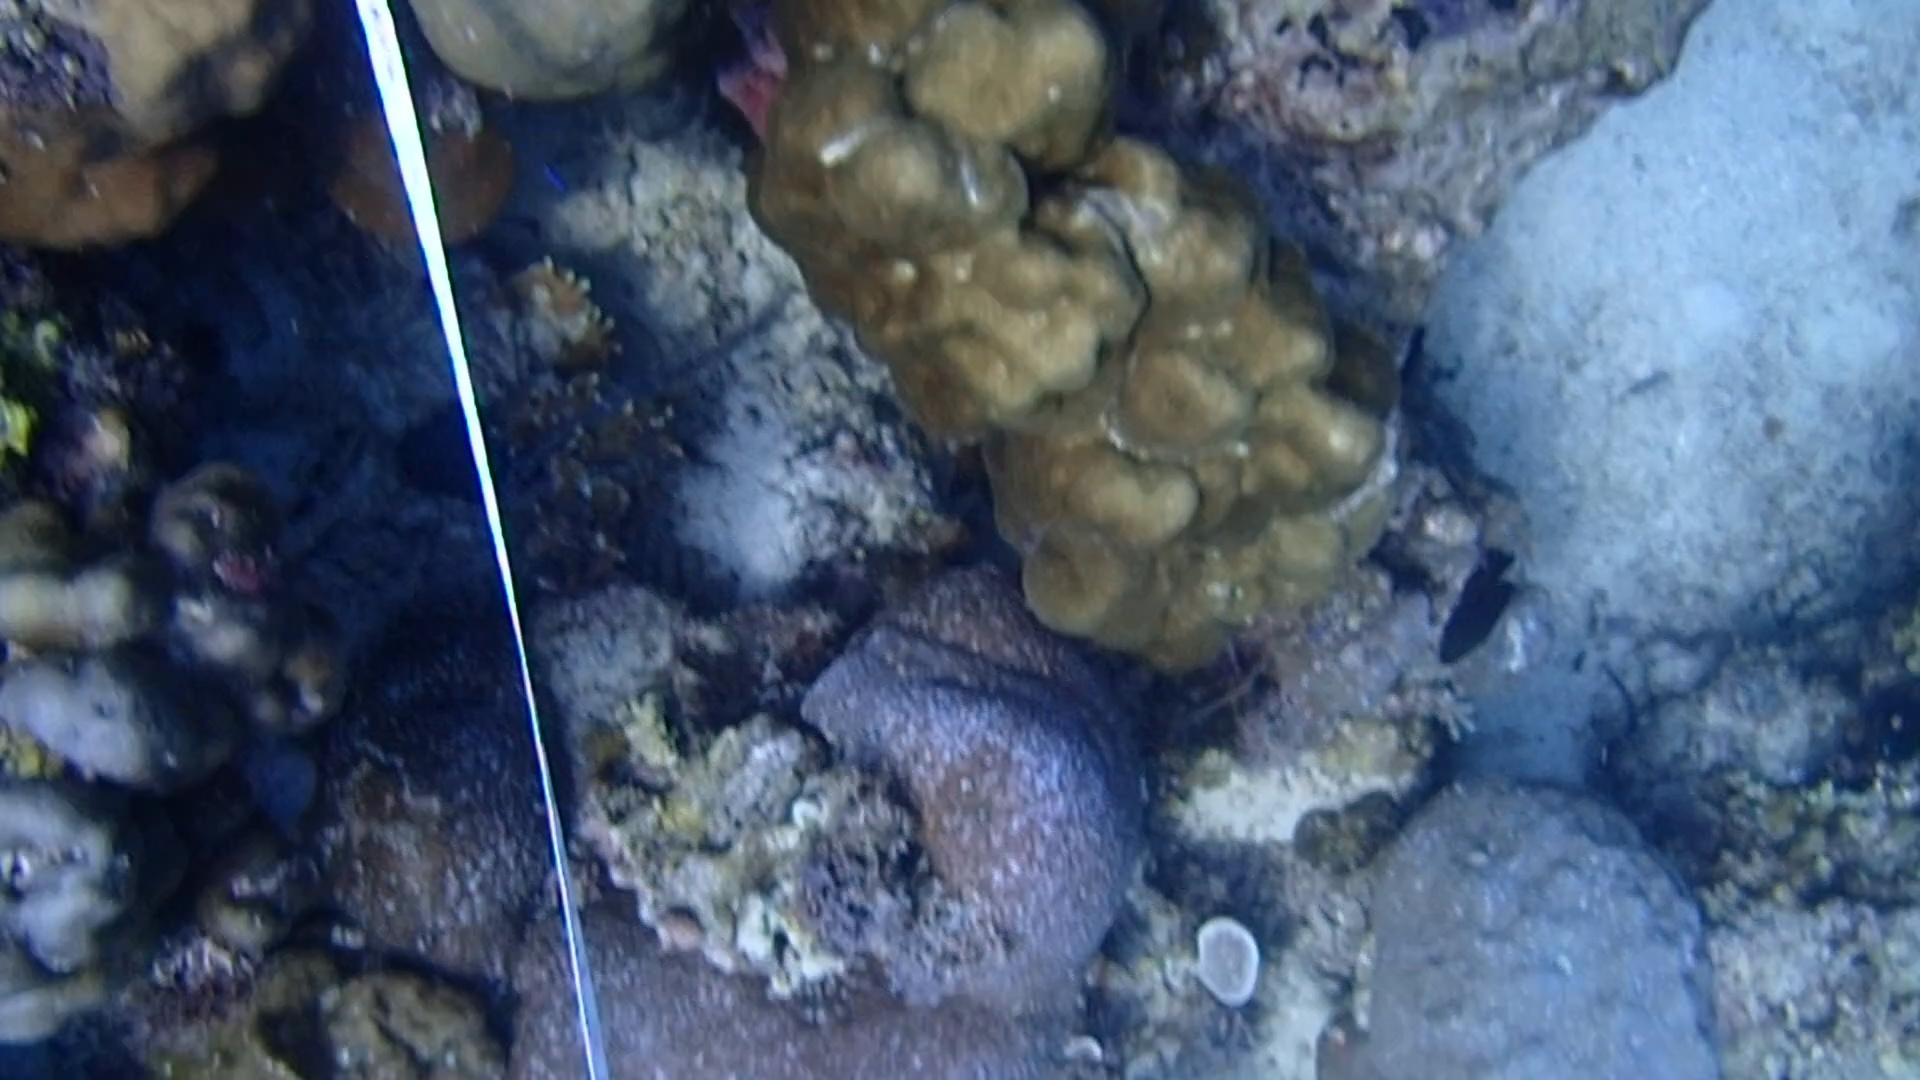Dark Fish: (1428, 537, 1531, 674)
